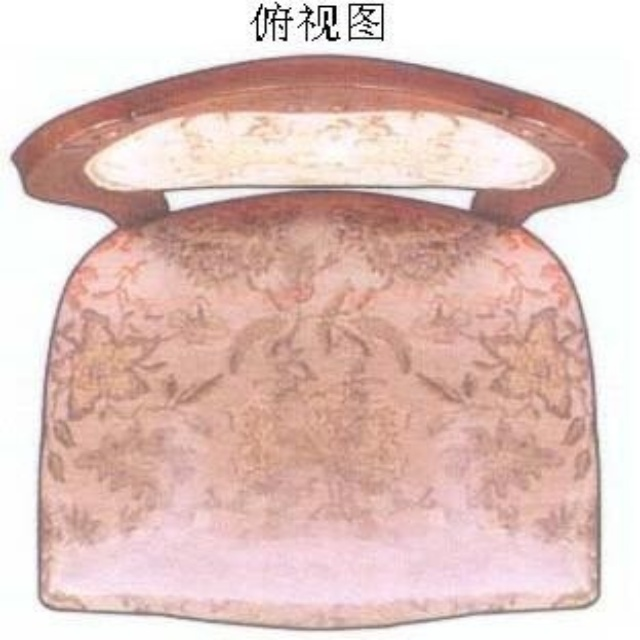obstacle: (12, 56, 624, 627)
